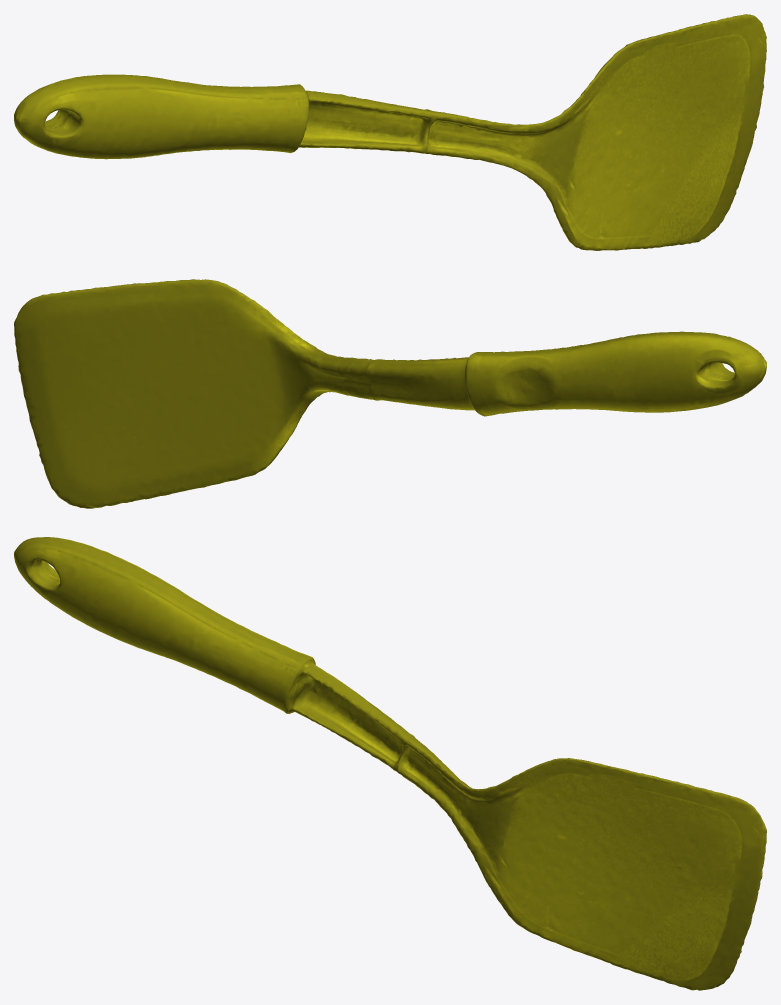
File: spatula.fbx
The picture shows the model from 3 angles, top to bottom: view 1: azimuth 30°, elevation 25°; view 2: azimuth 150°, elevation 25°; view 3: azimuth 330°, elevation 25°; orthographic projection. The views are drawn at different scales.
Parts seen in each view (by area): view 1: spatula; view 2: spatula; view 3: spatula.
Boxes of the visible parts, box(x1,y1,x2,y2) form: spatula: box(14, 14, 766, 250); spatula: box(14, 279, 766, 508); spatula: box(14, 537, 766, 990).
Size of the model in its own units: 30.55 by 12.46 by 3.29.
